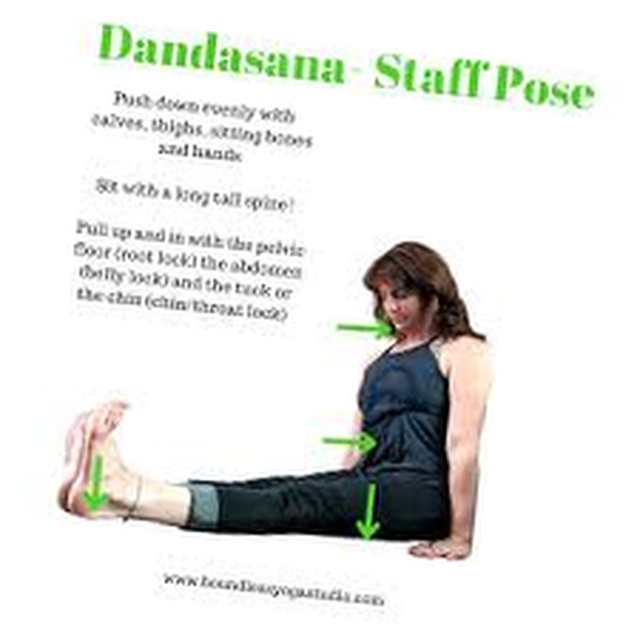Staff_Pose: (57, 241, 495, 563)
